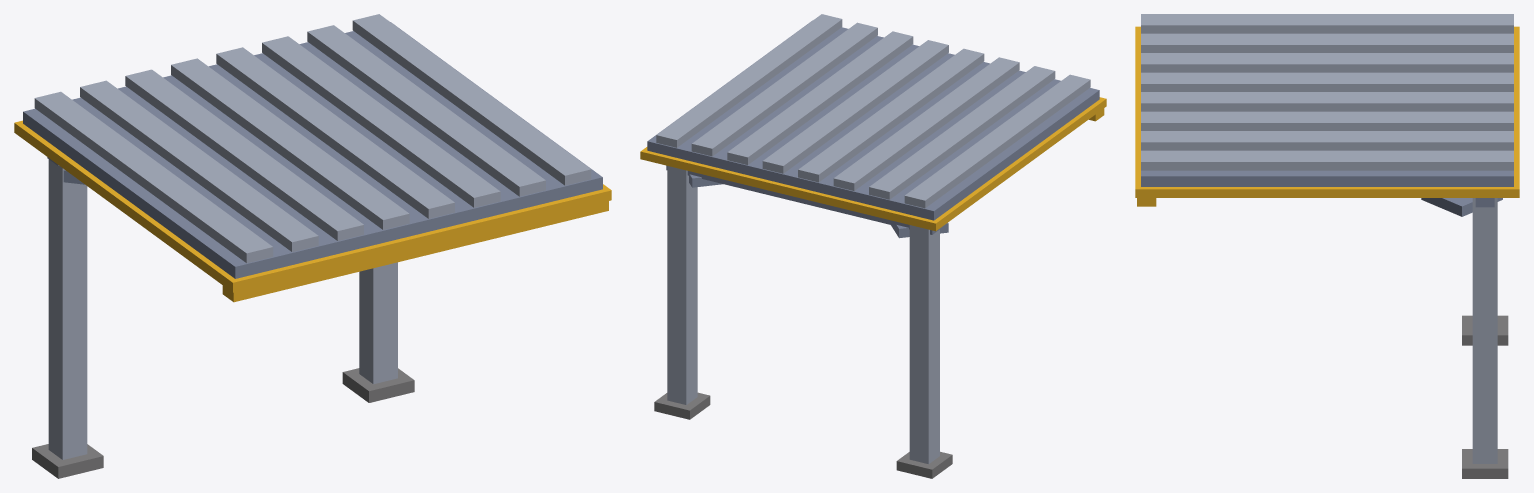
The model's file is roof.glb.
3 views of the same model, side by side, from view 1: azimuth 30°, elevation 25°; view 2: azimuth 150°, elevation 25°; view 3: azimuth 270°, elevation 25° (orthographic). The views are drawn at different scales.
Parts seen in each view (by area): view 1: roof; view 2: roof; view 3: roof.
Boxes of the visible parts, x1,y1,x2,y2 form: roof: (14, 14, 611, 478); roof: (640, 14, 1106, 478); roof: (1135, 14, 1519, 478).
Size of the model in its own units: 2 by 1.8 by 2.
